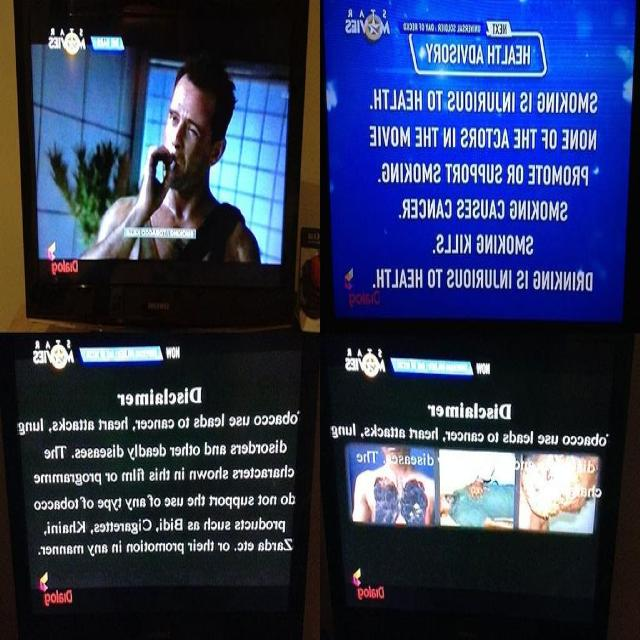smoking: (139, 72, 227, 217)
